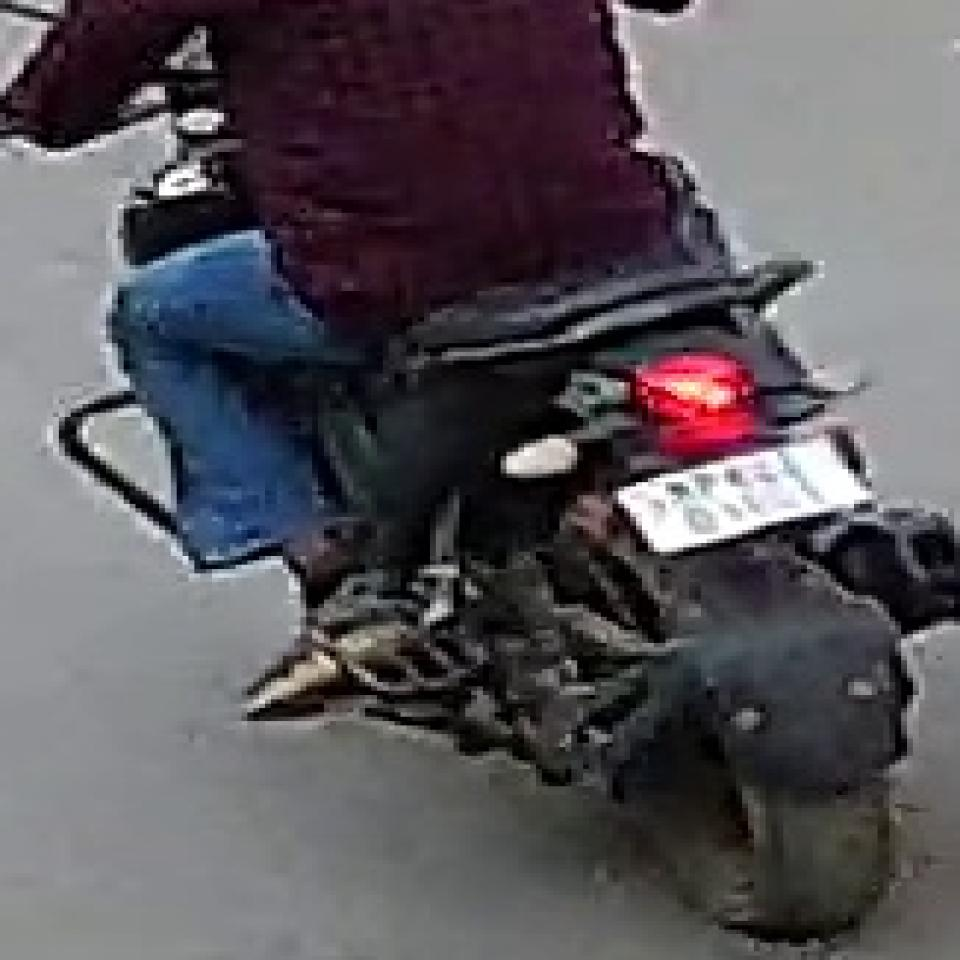tail_light: (632, 351, 760, 459)
